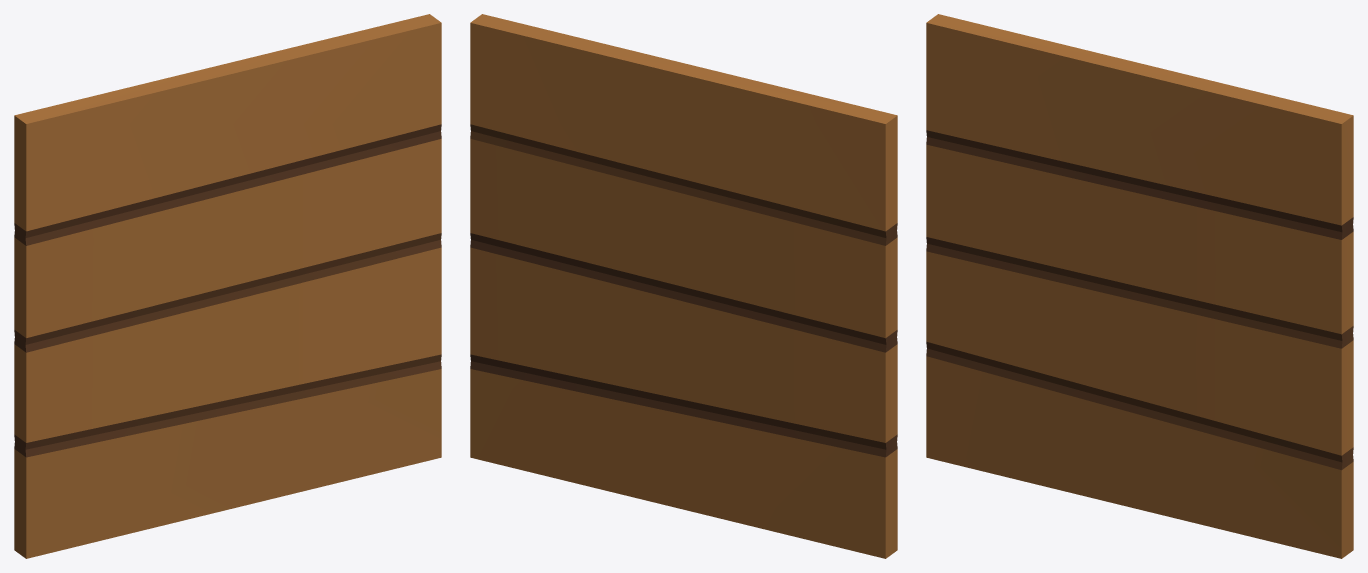
The model's file is Wall_Wood_02.fbx.
3 renders of one model, left to right at view 1: azimuth 30°, elevation 25°; view 2: azimuth 150°, elevation 25°; view 3: azimuth 330°, elevation 25°, orthographic.
Visible parts, largest first — view 1: Wall_Wood_02; view 2: Wall_Wood_02; view 3: Wall_Wood_02.
Boxes of the visible parts, x1,y1,x2,y2 form: Wall_Wood_02: (14,14,441,558); Wall_Wood_02: (470,14,897,558); Wall_Wood_02: (926,14,1353,558).
Bounding box in the file's own units: 4 × 4 × 0.2.
